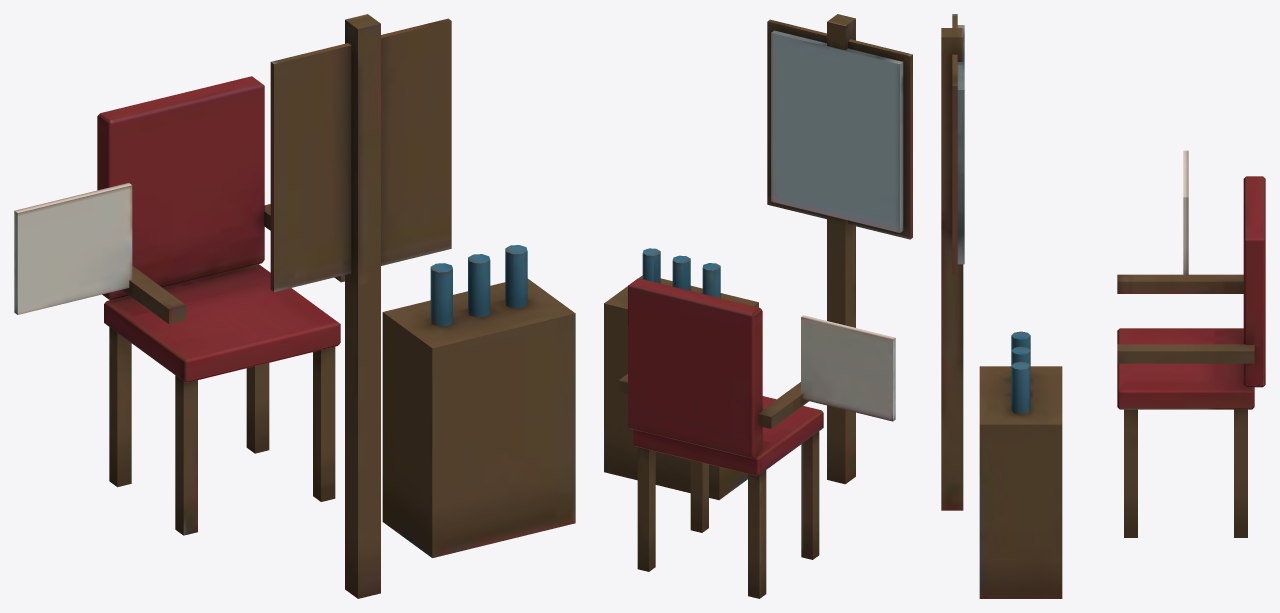
File: barber_chair.glb
3 views of the same model, side by side, from view 1: azimuth 30°, elevation 25°; view 2: azimuth 150°, elevation 25°; view 3: azimuth 270°, elevation 25° (orthographic). The views are drawn at different scales.
Parts seen in each view (by area): view 1: body; view 2: body; view 3: body.
Part boxes in pixels (<box>): body: <box>14,14,575,598</box>; body: <box>604,14,912,598</box>; body: <box>941,14,1265,598</box>.
Bounding box in the file's own units: 1.52 × 1.9 × 1.18.
Materials: 1 (1 with a texture image).
